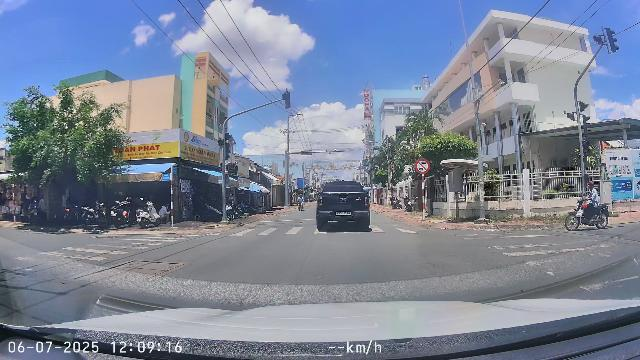107-cam-oto-khach-va-oto-tai: (415, 158, 430, 174)
